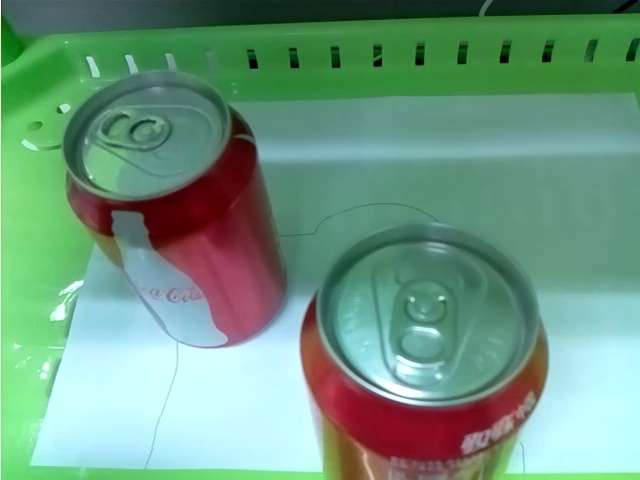cocacola: (294, 221, 552, 480), (62, 70, 287, 350)
